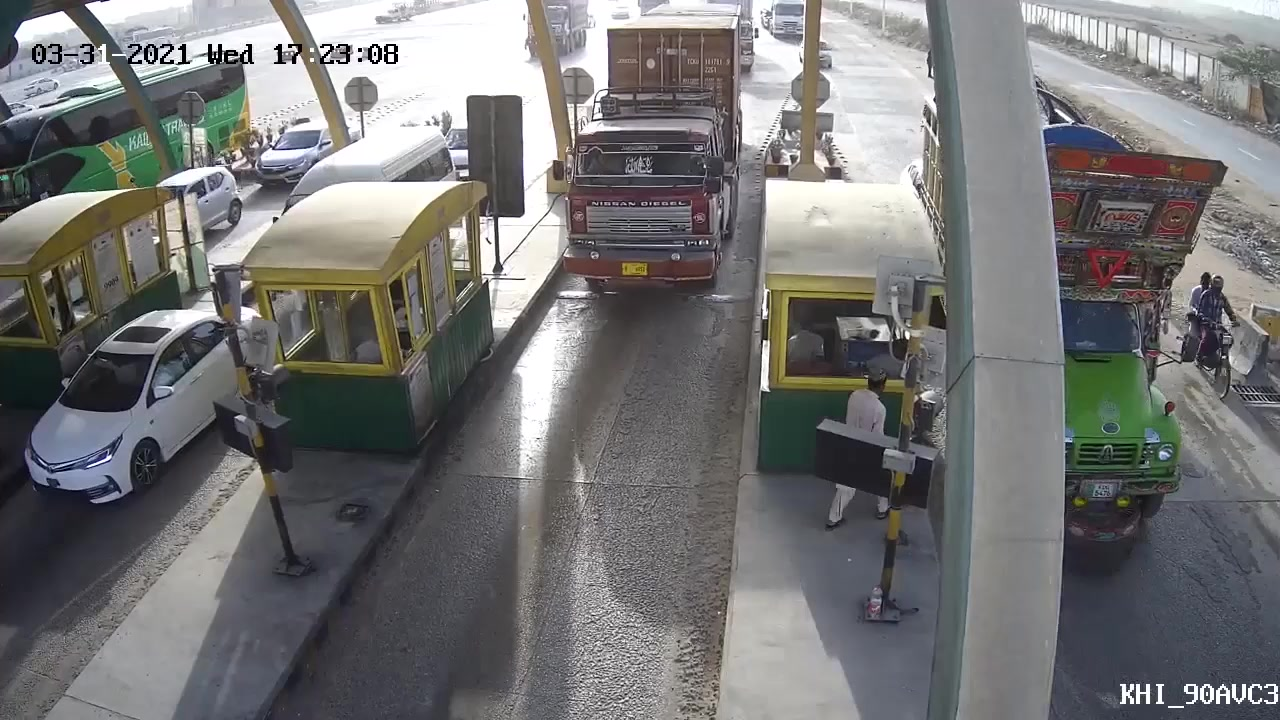F6: (540, 17, 746, 317)
